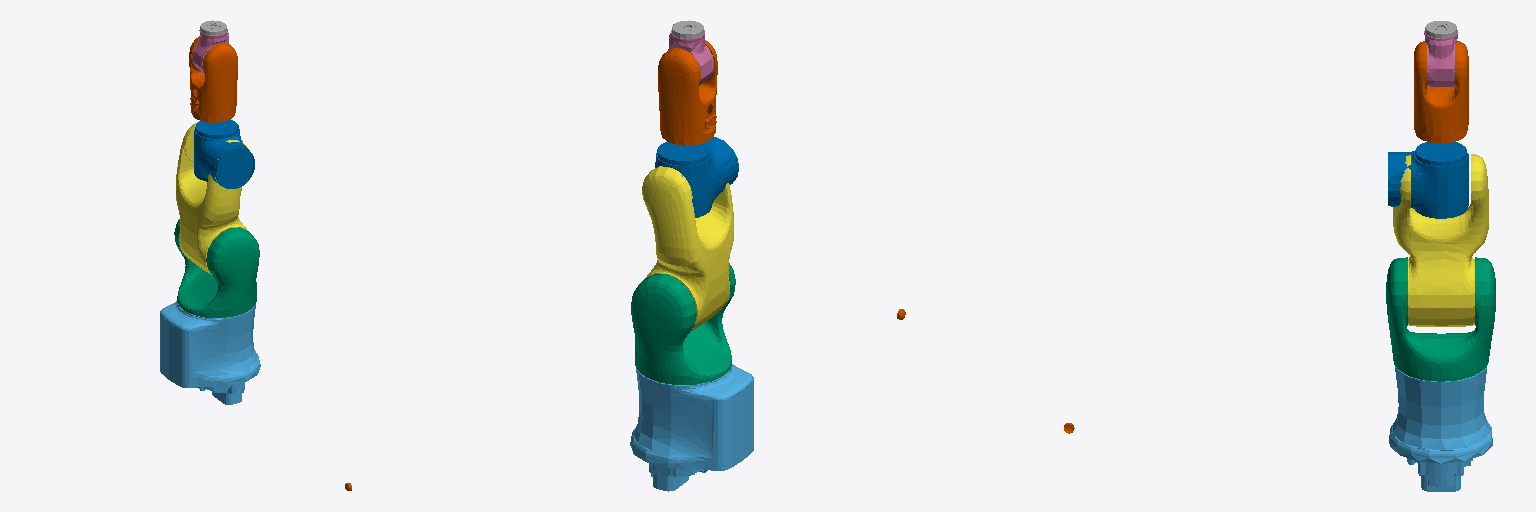
The robot description file, URDF, robot "vs050":
<?xml version="1.0" ?>
<!-- =================================================================================== -->
<!-- |    This document was autogenerated by xacro from vs050.unity.urdf.xacro         | -->
<!-- |    EDITING THIS FILE BY HAND IS NOT RECOMMENDED                                 | -->
<!-- =================================================================================== -->
<robot name="vs050">
  <gazebo>
    <plugin filename="libgazebo_ros_control.so" name="gazebo_ros_control">
      <robotNamespace>/vs050</robotNamespace>
    </plugin>
  </gazebo>
  <link name="world"/>
  <joint name="joint_w" type="fixed">
    <parent link="world"/>
    <child link="base_link"/>
  </joint>
  <link name="base_link">
    <visual>
      <origin rpy="0 0 0" xyz="0 0 0"/>
      <geometry>
        <mesh filename="package://vs050_description/base_link.stl" scale="1 1 1"/>
      </geometry>
    </visual>
    <collision>
      <origin rpy="0 0 0" xyz="0 0 0"/>
      <geometry>
        <mesh filename="package://vs050_description/base_link.stl" scale="1 1 1"/>
      </geometry>
    </collision>
    <inertial>
      <mass value="1"/>
      <origin rpy="0.000000 0.000000 0.000000" xyz="0.000000 0.000000 0.000000"/>
      <inertia ixx="1" ixy="0" ixz="0" iyy="1" iyz="0" izz="1"/>
    </inertial>
  </link>
  <link name="J1">
    <visual>
      <origin rpy="0 0 0" xyz="0 0 0"/>
      <geometry>
        <mesh filename="package://vs050_description/J1.stl" scale="1 1 1"/>
      </geometry>
    </visual>
    <collision>
      <origin rpy="0 0 0" xyz="0 0 0"/>
      <geometry>
        <mesh filename="package://vs050_description/J1.stl" scale="1 1 1"/>
      </geometry>
    </collision>
    <inertial>
      <mass value="1"/>
      <origin rpy="0.000000 0.000000 0.000000" xyz="0.000000 0.000000 0.000000"/>
      <inertia ixx="1" ixy="0" ixz="0" iyy="1" iyz="0" izz="1"/>
    </inertial>
  </link>
  <joint name="joint_1" type="revolute">
    <parent link="base_link"/>
    <child link="J1"/>
    <origin rpy="0.000000 0.000000 0.000000" xyz="0.000000 0.000000 0.000000"/>
    <axis xyz="-0.000000 -0.000000 1.000000"/>
    <limit effort="1" lower="-3.14159265358979" upper="3.14159265358979" velocity="1"/>
    <dynamics damping="0" friction="0"/>
  </joint>
  <transmission name="trans_1">
    <type>transmission_interface/SimpleTransmission</type>
    <joint name="joint_1">
      <hardwareInterface>hardware_interface/PositionJointInterface</hardwareInterface>
    </joint>
    <actuator name="motor_1">
      <hardwareInterface>hardware_interface/PositionJointInterface</hardwareInterface>
      <mechanicalReduction>1</mechanicalReduction>
    </actuator>
  </transmission>
  <link name="J2">
    <visual>
      <origin rpy="0 0 0" xyz="0 0 0"/>
      <geometry>
        <mesh filename="package://vs050_description/J2.stl" scale="1 1 1"/>
      </geometry>
    </visual>
    <collision>
      <origin rpy="0 0 0" xyz="0 0 0"/>
      <geometry>
        <mesh filename="package://vs050_description/J2.stl" scale="1 1 1"/>
      </geometry>
    </collision>
    <inertial>
      <mass value="1"/>
      <origin rpy="0.000000 0.000000 0.000000" xyz="0.000000 0.000000 0.000000"/>
      <inertia ixx="1" ixy="0" ixz="0" iyy="1" iyz="0" izz="1"/>
    </inertial>
  </link>
  <joint name="joint_2" type="revolute">
    <parent link="J1"/>
    <child link="J2"/>
    <origin rpy="0.000000 0.000000 0.000000" xyz="0.000000 0.000000 0.345000"/>
    <axis xyz="-0.000000 1.000000 -0.000000"/>
    <limit effort="1" lower="-2.00712863979348" upper="2.0943951023932" velocity="1"/>
    <dynamics damping="0" friction="0"/>
  </joint>
  <transmission name="trans_2">
    <type>transmission_interface/SimpleTransmission</type>
    <joint name="joint_2">
      <hardwareInterface>hardware_interface/PositionJointInterface</hardwareInterface>
    </joint>
    <actuator name="motor_2">
      <hardwareInterface>hardware_interface/PositionJointInterface</hardwareInterface>
      <mechanicalReduction>1</mechanicalReduction>
    </actuator>
  </transmission>
  <link name="J3">
    <visual>
      <origin rpy="0 0 0" xyz="0 0 0"/>
      <geometry>
        <mesh filename="package://vs050_description/J3.stl" scale="1 1 1"/>
      </geometry>
    </visual>
    <collision>
      <origin rpy="0 0 0" xyz="0 0 0"/>
      <geometry>
        <mesh filename="package://vs050_description/J3.stl" scale="1 1 1"/>
      </geometry>
    </collision>
    <inertial>
      <mass value="1"/>
      <origin rpy="0.000000 0.000000 0.000000" xyz="0.000000 0.000000 0.000000"/>
      <inertia ixx="1" ixy="0" ixz="0" iyy="1" iyz="0" izz="1"/>
    </inertial>
  </link>
  <joint name="joint_3" type="revolute">
    <parent link="J2"/>
    <child link="J3"/>
    <origin rpy="0.000000 0.000000 0.000000" xyz="0.000000 0.000000 0.255000"/>
    <axis xyz="-0.000000 1.000000 -0.000000"/>
    <limit effort="1" lower="-2.00712863979348" upper="2.460914245312" velocity="1"/>
    <dynamics damping="0" friction="0"/>
  </joint>
  <transmission name="trans_3">
    <type>transmission_interface/SimpleTransmission</type>
    <joint name="joint_3">
      <hardwareInterface>hardware_interface/PositionJointInterface</hardwareInterface>
    </joint>
    <actuator name="motor_3">
      <hardwareInterface>hardware_interface/PositionJointInterface</hardwareInterface>
      <mechanicalReduction>1</mechanicalReduction>
    </actuator>
  </transmission>
  <link name="J4">
    <visual>
      <origin rpy="0 0 0" xyz="0 0 0"/>
      <geometry>
        <mesh filename="package://vs050_description/J4.stl" scale="1 1 1"/>
      </geometry>
    </visual>
    <collision>
      <origin rpy="0 0 0" xyz="0 0 0"/>
      <geometry>
        <mesh filename="package://vs050_description/J4.stl" scale="1 1 1"/>
      </geometry>
    </collision>
    <inertial>
      <mass value="1"/>
      <origin rpy="0.000000 0.000000 0.000000" xyz="0.000000 0.000000 0.000000"/>
      <inertia ixx="1" ixy="0" ixz="0" iyy="1" iyz="0" izz="1"/>
    </inertial>
  </link>
  <joint name="joint_4" type="revolute">
    <parent link="J3"/>
    <child link="J4"/>
    <origin rpy="0.000000 0.000000 0.000000" xyz="-0.010000 0.000000 -0.600000"/>
    <axis xyz="-0.000000 -0.000000 1.000000"/>
    <limit effort="1" lower="-4.71238898038469" upper="4.71238898038469" velocity="1"/>
    <dynamics damping="0" friction="0"/>
  </joint>
  <transmission name="trans_4">
    <type>transmission_interface/SimpleTransmission</type>
    <joint name="joint_4">
      <hardwareInterface>hardware_interface/PositionJointInterface</hardwareInterface>
    </joint>
    <actuator name="motor_4">
      <hardwareInterface>hardware_interface/PositionJointInterface</hardwareInterface>
      <mechanicalReduction>1</mechanicalReduction>
    </actuator>
  </transmission>
  <link name="J5">
    <visual>
      <origin rpy="0 0 0" xyz="0 0 0"/>
      <geometry>
        <mesh filename="package://vs050_description/J5.stl" scale="1 1 1"/>
      </geometry>
    </visual>
    <collision>
      <origin rpy="0 0 0" xyz="0 0 0"/>
      <geometry>
        <mesh filename="package://vs050_description/J5.stl" scale="1 1 1"/>
      </geometry>
    </collision>
    <inertial>
      <mass value="1"/>
      <origin rpy="0.000000 0.000000 0.000000" xyz="0.000000 0.000000 0.000000"/>
      <inertia ixx="1" ixy="0" ixz="0" iyy="1" iyz="0" izz="1"/>
    </inertial>
  </link>
  <joint name="joint_5" type="revolute">
    <parent link="J4"/>
    <child link="J5"/>
    <origin rpy="0.000000 0.000000 0.000000" xyz="0.000000 0.000000 0.865000"/>
    <axis xyz="-0.000000 1.000000 -0.000000"/>
    <limit effort="1" lower="-2.00712863979348" upper="2.00712863979348" velocity="1"/>
    <dynamics damping="0" friction="0"/>
  </joint>
  <transmission name="trans_5">
    <type>transmission_interface/SimpleTransmission</type>
    <joint name="joint_5">
      <hardwareInterface>hardware_interface/PositionJointInterface</hardwareInterface>
    </joint>
    <actuator name="motor_5">
      <hardwareInterface>hardware_interface/PositionJointInterface</hardwareInterface>
      <mechanicalReduction>1</mechanicalReduction>
    </actuator>
  </transmission>
  <link name="J6">
    <visual>
      <origin rpy="0 0 0" xyz="0 0 0"/>
      <geometry>
        <mesh filename="package://vs050_description/J6.stl" scale="1 1 1"/>
      </geometry>
    </visual>
    <collision>
      <origin rpy="0 0 0" xyz="0 0 0"/>
      <geometry>
        <mesh filename="package://vs050_description/J6.stl" scale="1 1 1"/>
      </geometry>
    </collision>
    <inertial>
      <mass value="1"/>
      <origin rpy="0.000000 0.000000 0.000000" xyz="0.000000 0.000000 0.000000"/>
      <inertia ixx="1" ixy="0" ixz="0" iyy="1" iyz="0" izz="1"/>
    </inertial>
  </link>
  <joint name="joint_6" type="revolute">
    <parent link="J5"/>
    <child link="J6"/>
    <origin rpy="0.000000 0.000000 0.000000" xyz="0.000000 0.000000 0.085000"/>
    <axis xyz="-0.000000 -0.000000 1.000000"/>
    <limit effort="1" lower="-6.28318530717959" upper="6.28318530717959" velocity="1"/>
    <dynamics damping="0" friction="0"/>
  </joint>
  <transmission name="trans_6">
    <type>transmission_interface/SimpleTransmission</type>
    <joint name="joint_6">
      <hardwareInterface>hardware_interface/PositionJointInterface</hardwareInterface>
    </joint>
    <actuator name="motor_6">
      <hardwareInterface>hardware_interface/PositionJointInterface</hardwareInterface>
      <mechanicalReduction>1</mechanicalReduction>
    </actuator>
  </transmission>
</robot>

--- Render facts (derived) ---
3 views of the same robot in one strip: view 1: azimuth 30°, elevation 25°; view 2: azimuth 150°, elevation 25°; view 3: azimuth 270°, elevation 25° (orthographic).
Model vs050 with 8 links and 7 joints (6 revolute, 1 fixed), rooted at world, posed all joints at 0.
Visible links, largest first — view 1: base_link, J1, J2, J4, J3, J5; view 2: base_link, J2, J1, J4, J3, J5; view 3: J2, base_link, J1, J3, J4, J5.
Link boxes in pixels (left/top/right/bottom): base_link: left=160, top=301, right=260, bottom=404; J1: left=174, top=219, right=259, bottom=317; J2: left=176, top=122, right=247, bottom=274; J4: left=189, top=36, right=351, bottom=490; J3: left=194, top=119, right=254, bottom=188; J5: left=192, top=29, right=229, bottom=73; base_link: left=630, top=364, right=753, bottom=491; J2: left=642, top=166, right=733, bottom=331; J1: left=631, top=263, right=735, bottom=385; J4: left=658, top=40, right=905, bottom=319; J3: left=655, top=137, right=738, bottom=217; J5: left=668, top=30, right=713, bottom=85; J2: left=1393, top=154, right=1488, bottom=326; base_link: left=1389, top=362, right=1492, bottom=491; J1: left=1386, top=257, right=1495, bottom=381; J3: left=1388, top=142, right=1468, bottom=218; J4: left=1064, top=41, right=1468, bottom=433; J5: left=1424, top=30, right=1457, bottom=86.
Size in the robot's own frame: 0.25 by 0.9029 by 1.04 metres.
Meshes: 7 distinct files referenced, 7 mesh visuals loaded (7 binary STL).
